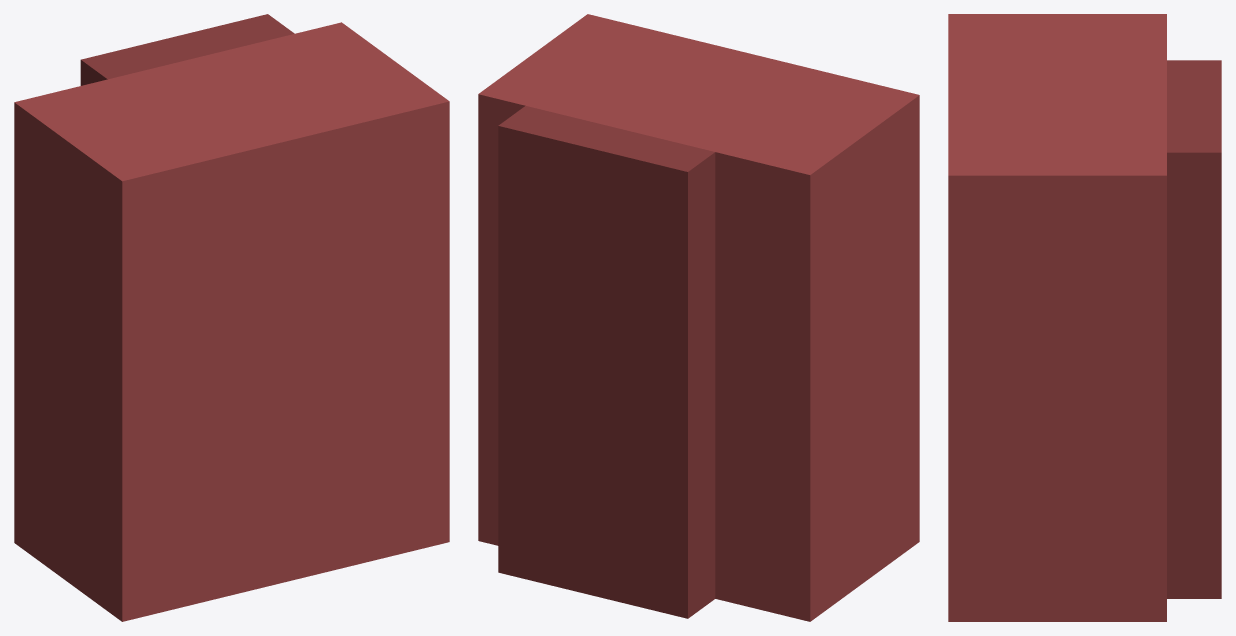
Rendered from legendario_pechera_bandido_01.glb.
3 views of the same model, side by side, from view 1: azimuth 30°, elevation 25°; view 2: azimuth 150°, elevation 25°; view 3: azimuth 270°, elevation 25° (orthographic).
Visible parts, largest first — view 1: legendario_pechera_bandido; view 2: legendario_pechera_bandido; view 3: legendario_pechera_bandido.
Boxes of the visible parts, x1,y1,x2,y2 form: legendario_pechera_bandido: [14, 14, 449, 621]; legendario_pechera_bandido: [478, 14, 919, 621]; legendario_pechera_bandido: [948, 14, 1221, 621].
Size of the model in its own units: 0.5833 by 0.75 by 0.4167.
